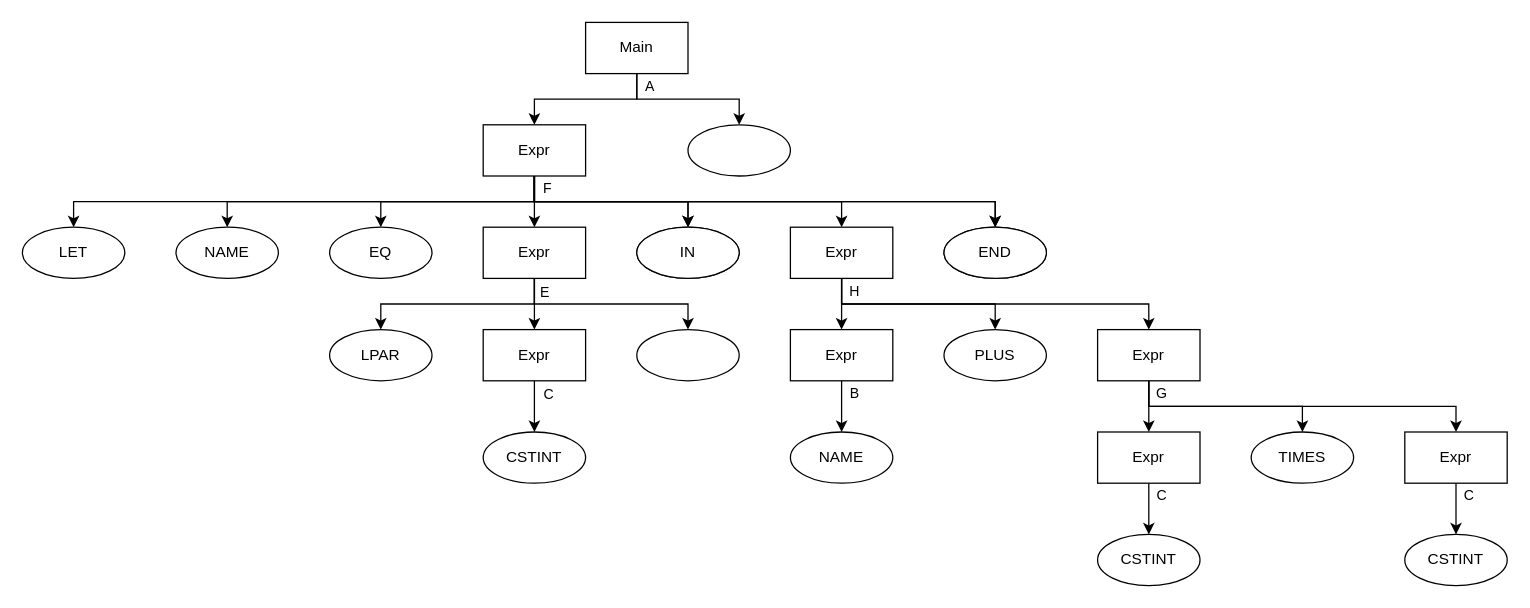
The diagram is 1530 pixels wide and 608 high, and some of its shapes have lost their labels. Here are the shapes that lost their labels. From the top down, the centre of each, then its label:
At [738,150]: "EOF".
At [687,354]: "RPAR".
